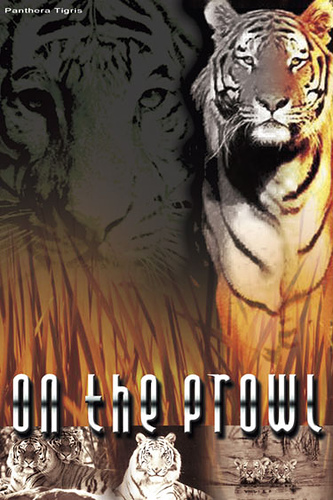Tigre: (193, 8, 333, 365)
